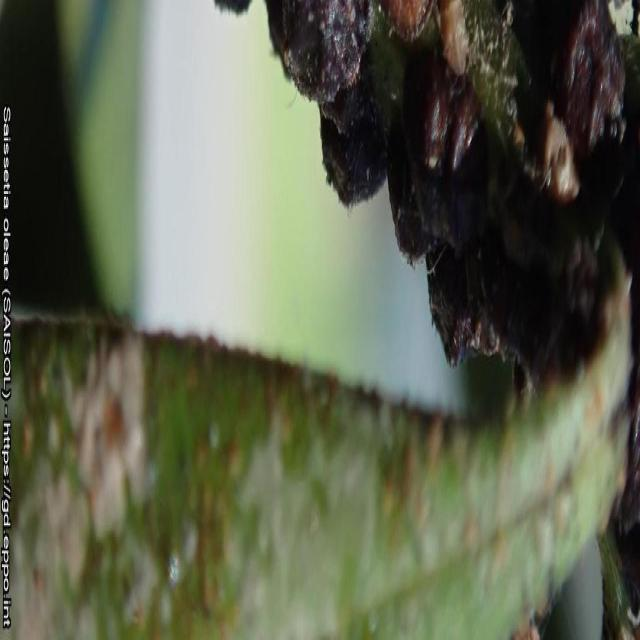BlackScale: (266, 0, 640, 388)
